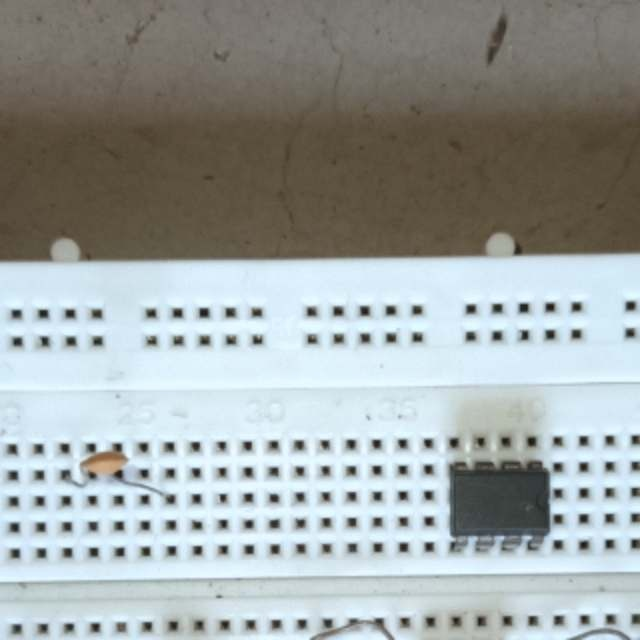capacitor: (78, 450, 130, 478)
